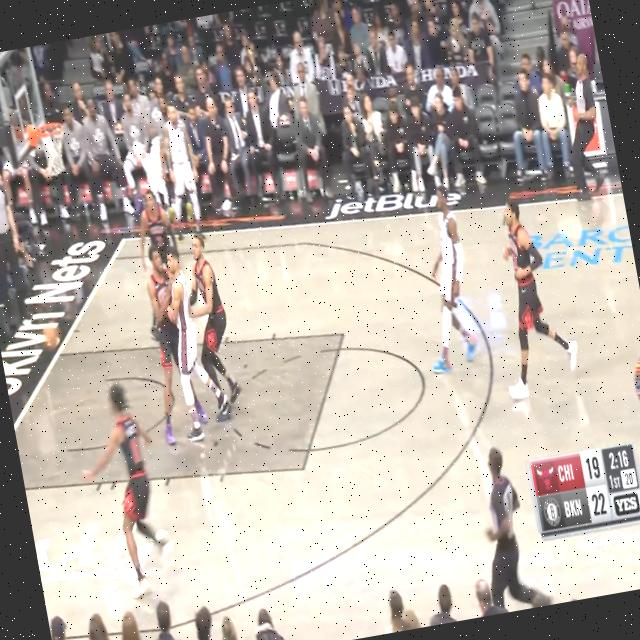Foul: (122, 225, 237, 448)
